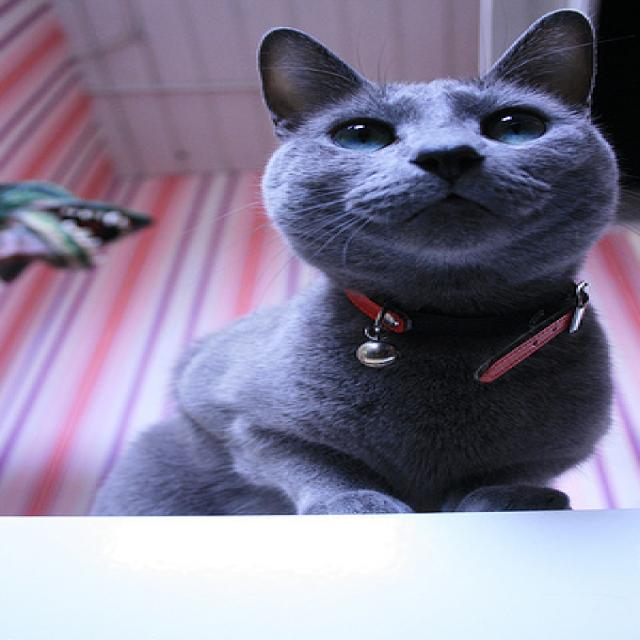Russian Blue: (79, 3, 623, 518)
